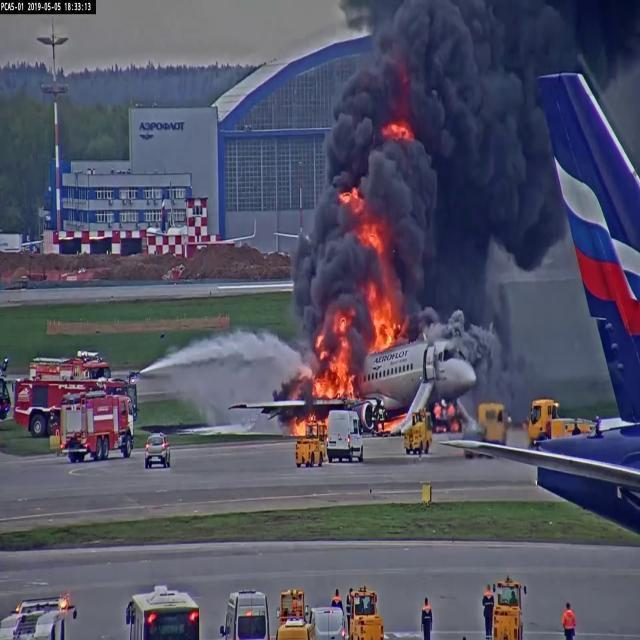Fire: (312, 343, 355, 393)
Smoke: (382, 0, 545, 251), (362, 117, 448, 273)
